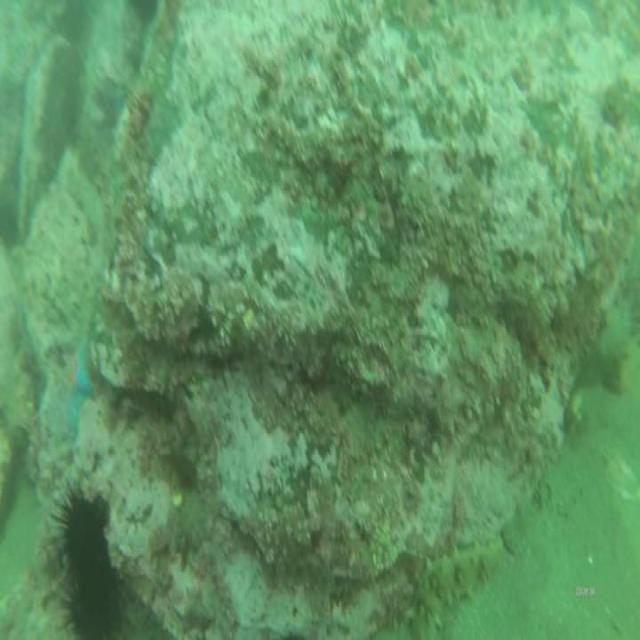echinus: (45, 478, 113, 578), (58, 564, 126, 635)
holothurian: (412, 532, 507, 630)
starfish: (65, 337, 97, 439)
